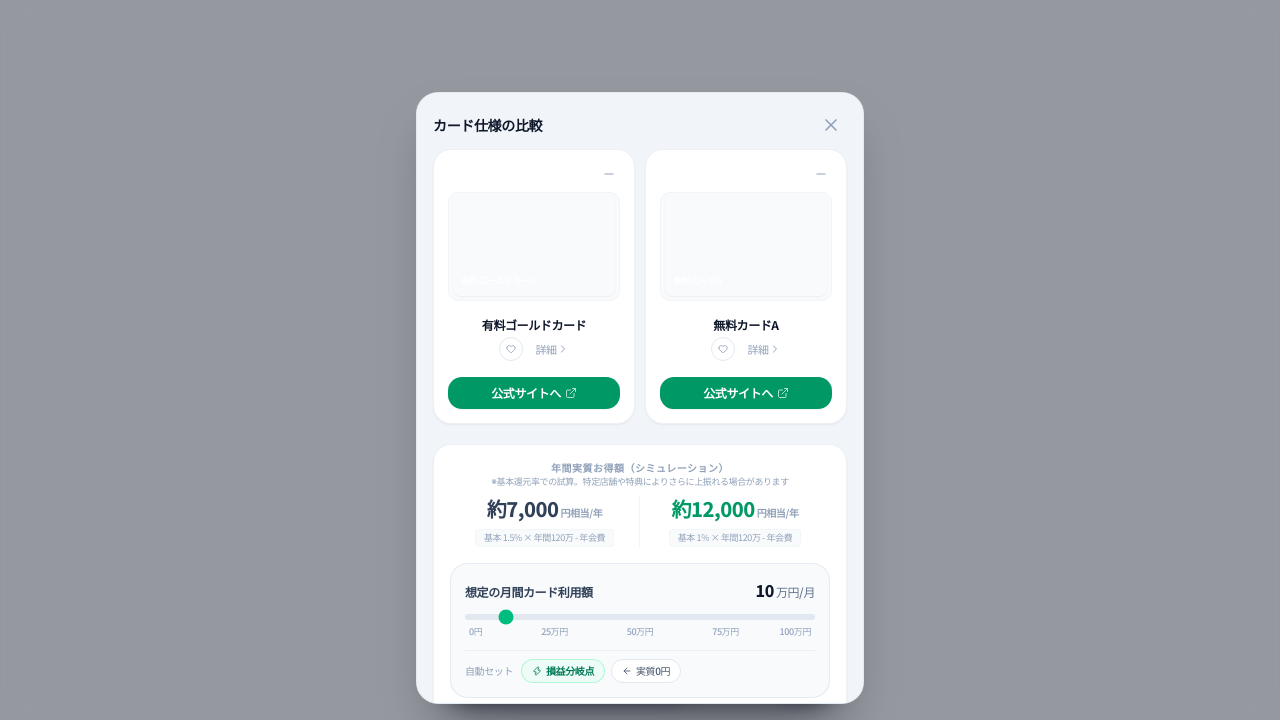
Test: CompareBottomSheet - 損益分岐点・実質0円チップの動作テスト › ユーザーインタラクション › IT-02: 「実質0円」チップタップ時に単体の回収ライン金額に更新されること
Click the button "実質0円" at point(646, 671), box [611,659,681,683]
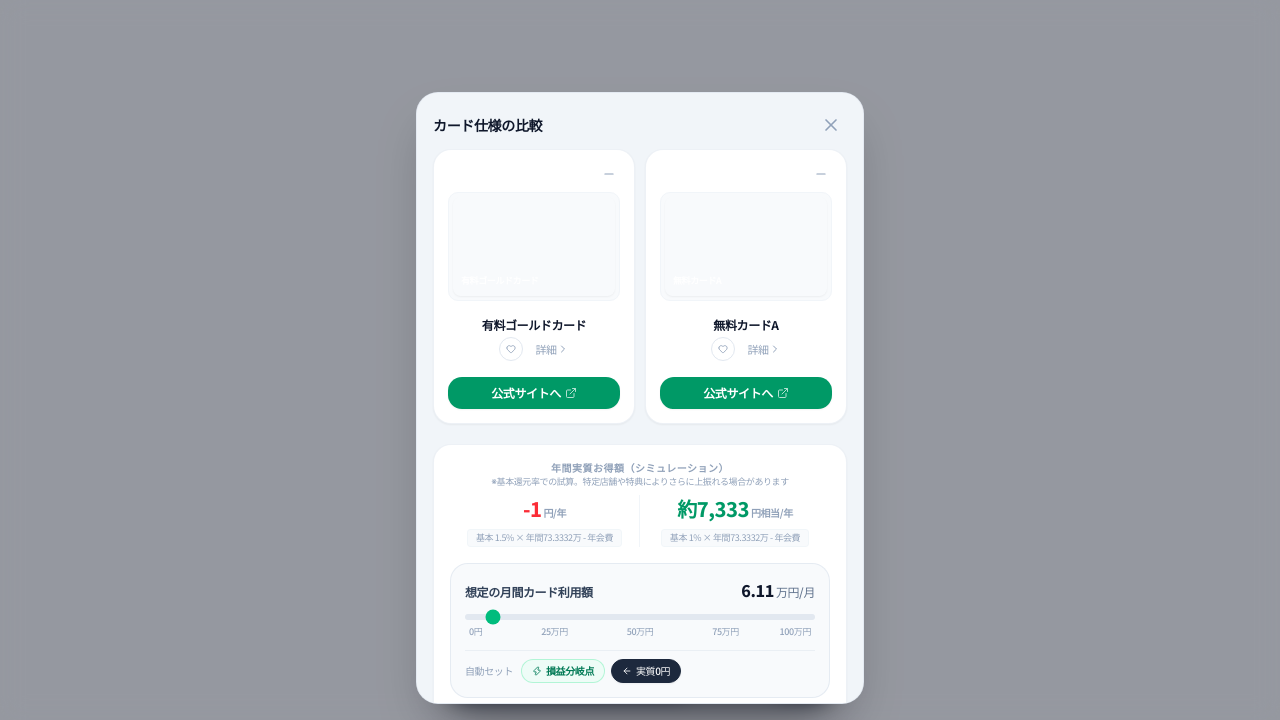
Expected: the text "6.11" is shown, [741,578,774,602]
